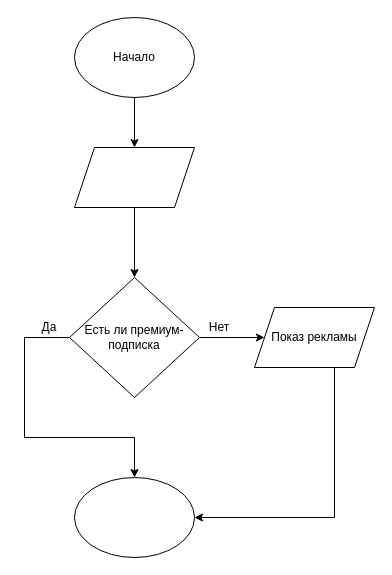
This 392x575 diagram has some shape labels left out. The shapes that lost their labels are listed below. From the top down, each one's box as (x1, y1, x2, y2) in pixels, then its label:
(74, 146, 194, 208): Приветствие
(74, 476, 194, 558): Конец
